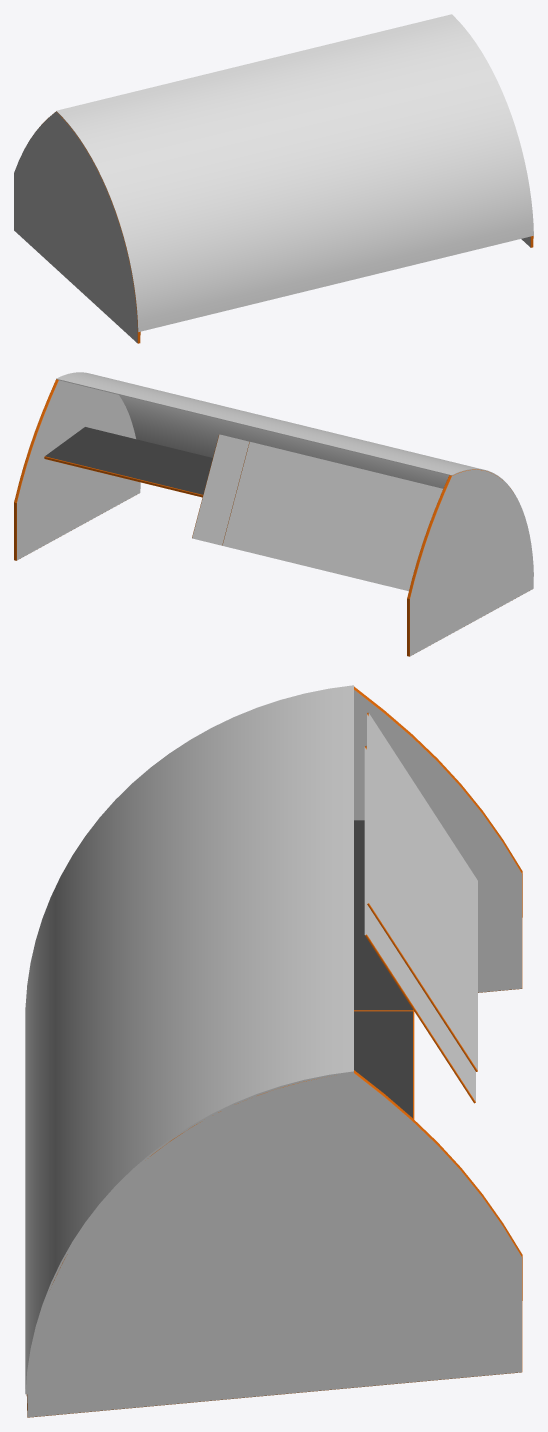
File: holodVetrinaGlass.FBX
The picture shows the model from 3 angles, top to bottom: view 1: azimuth 30°, elevation 25°; view 2: azimuth 150°, elevation 25°; view 3: azimuth 270°, elevation 25°; orthographic projection. The views are drawn at different scales.
Visible parts, largest first — view 1: holodVetrinaGlass; view 2: holodVetrinaGlass; view 3: holodVetrinaGlass.
Boxes of the visible parts, x1=… form: holodVetrinaGlass: x1=14, y1=14, x2=533, y2=343; holodVetrinaGlass: x1=14, y1=372, x2=533, y2=656; holodVetrinaGlass: x1=25, y1=685, x2=522, y2=1417.
Bounding box in the file's own units: 1801 × 753 × 979.
